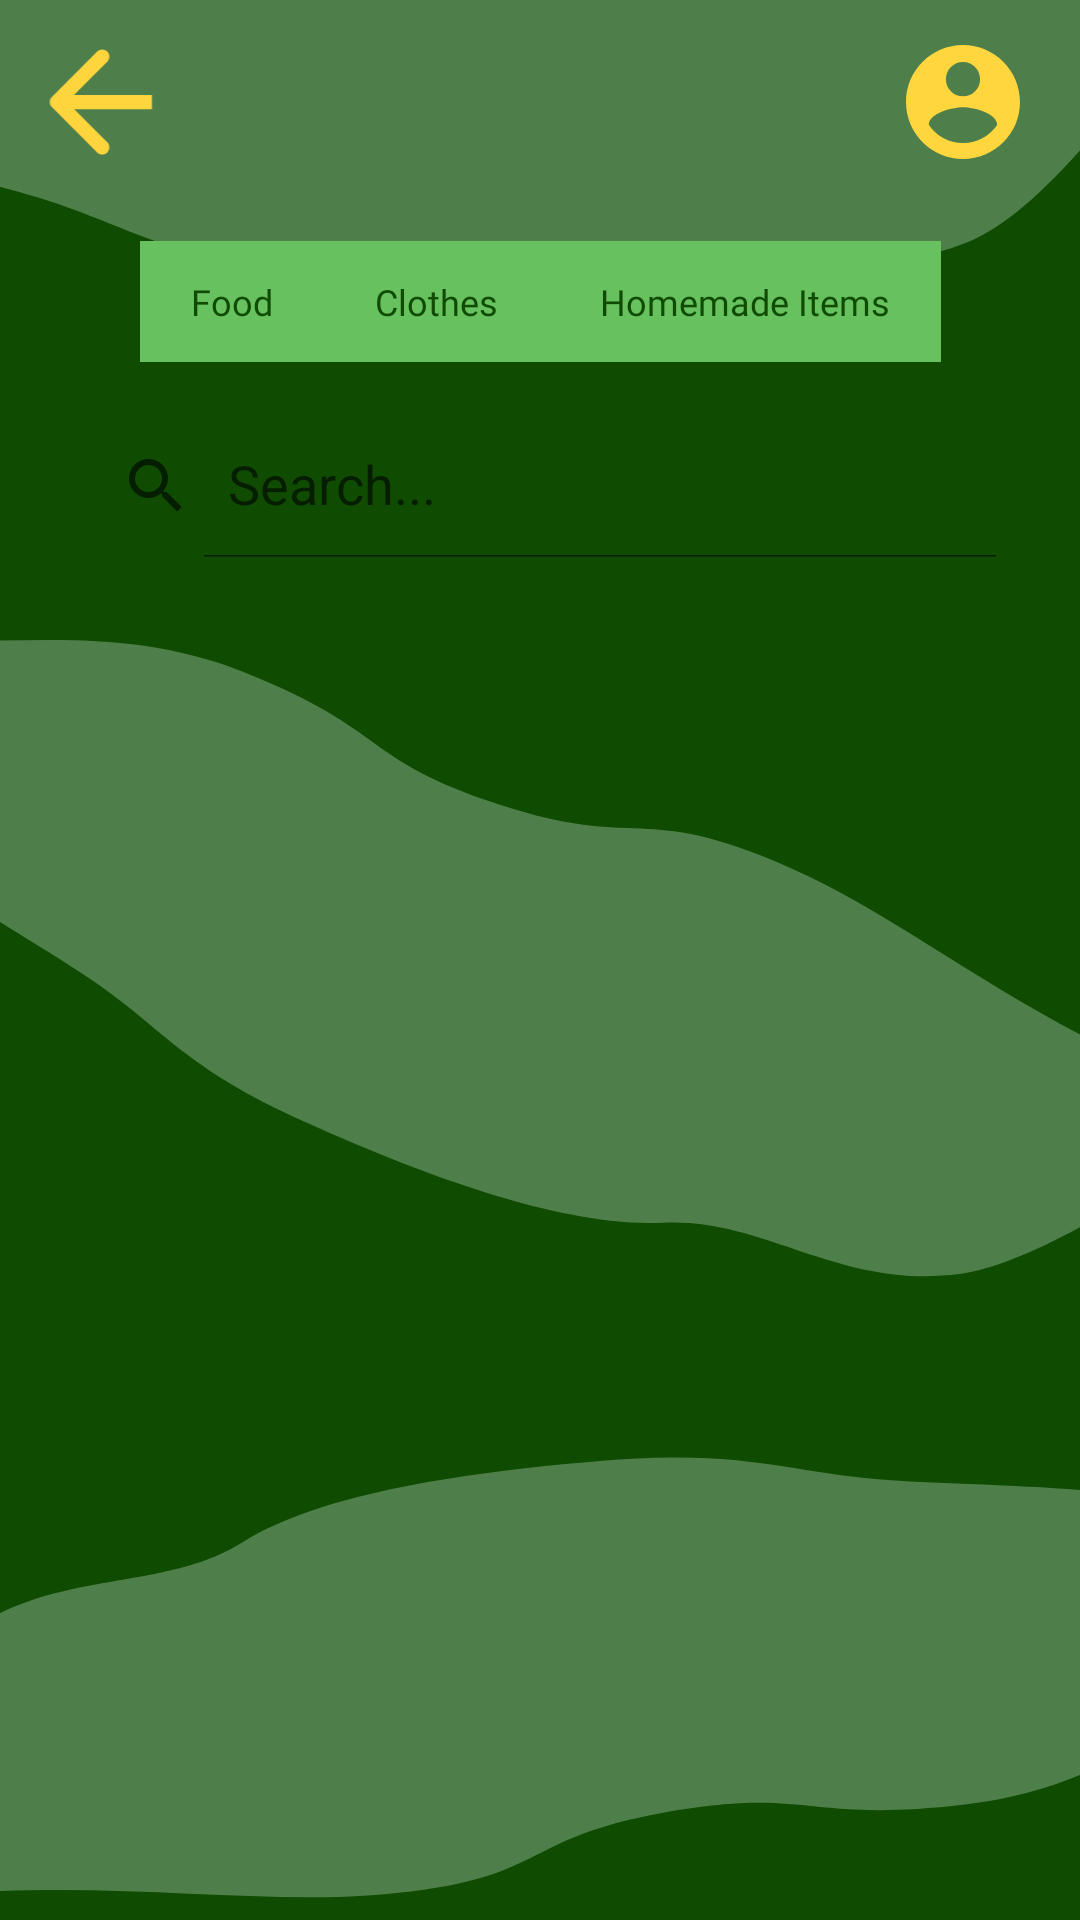

Icons on this 1080 × 1920 Android screen, each with its box as (x1, y1, x2, y2):
Profile Button: (906, 45, 1020, 159)
Up Button: (49, 49, 153, 155)
